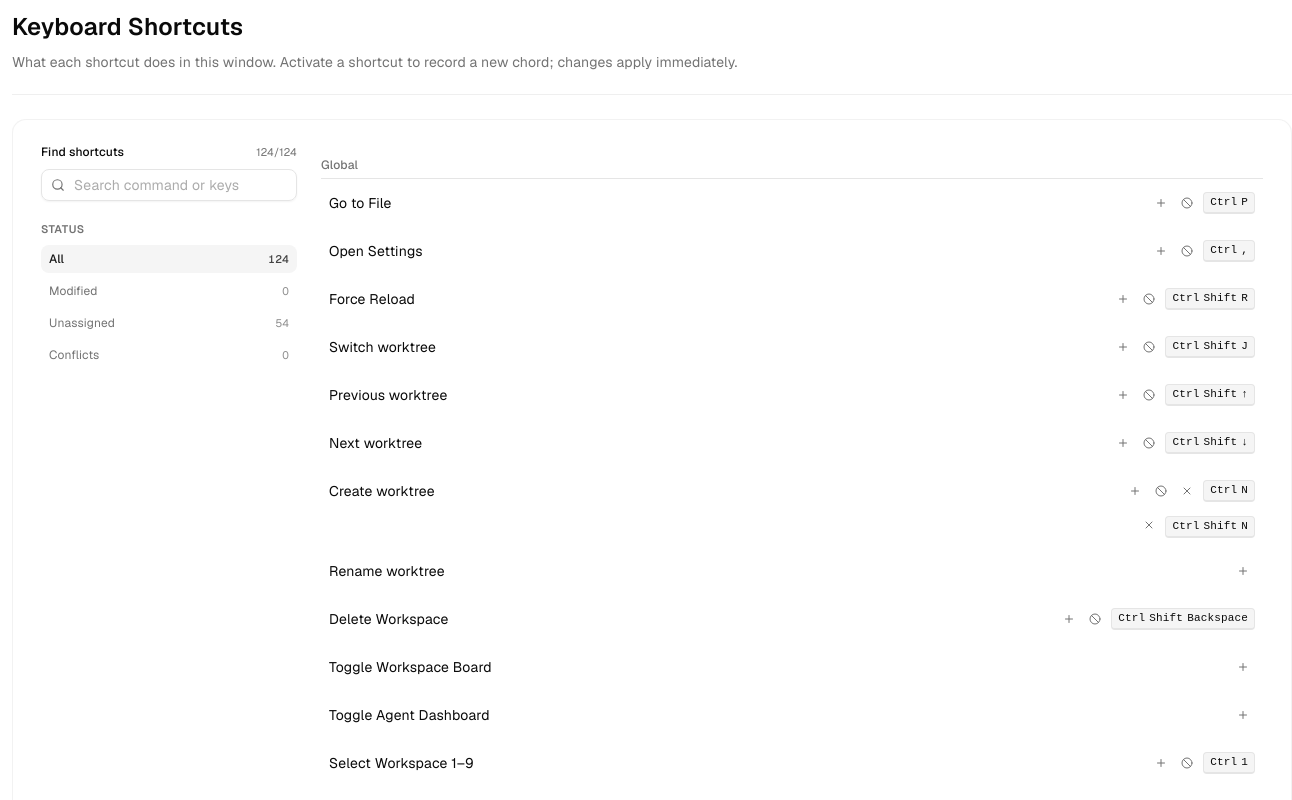
Test case: Shortcuts status filter rail (#245) › the rail search filters rows and reports the match count
Step 1. Type "Open Settings" into the field with placeholder "Search command or keys" → x=169, y=184, box [41, 168, 297, 200]
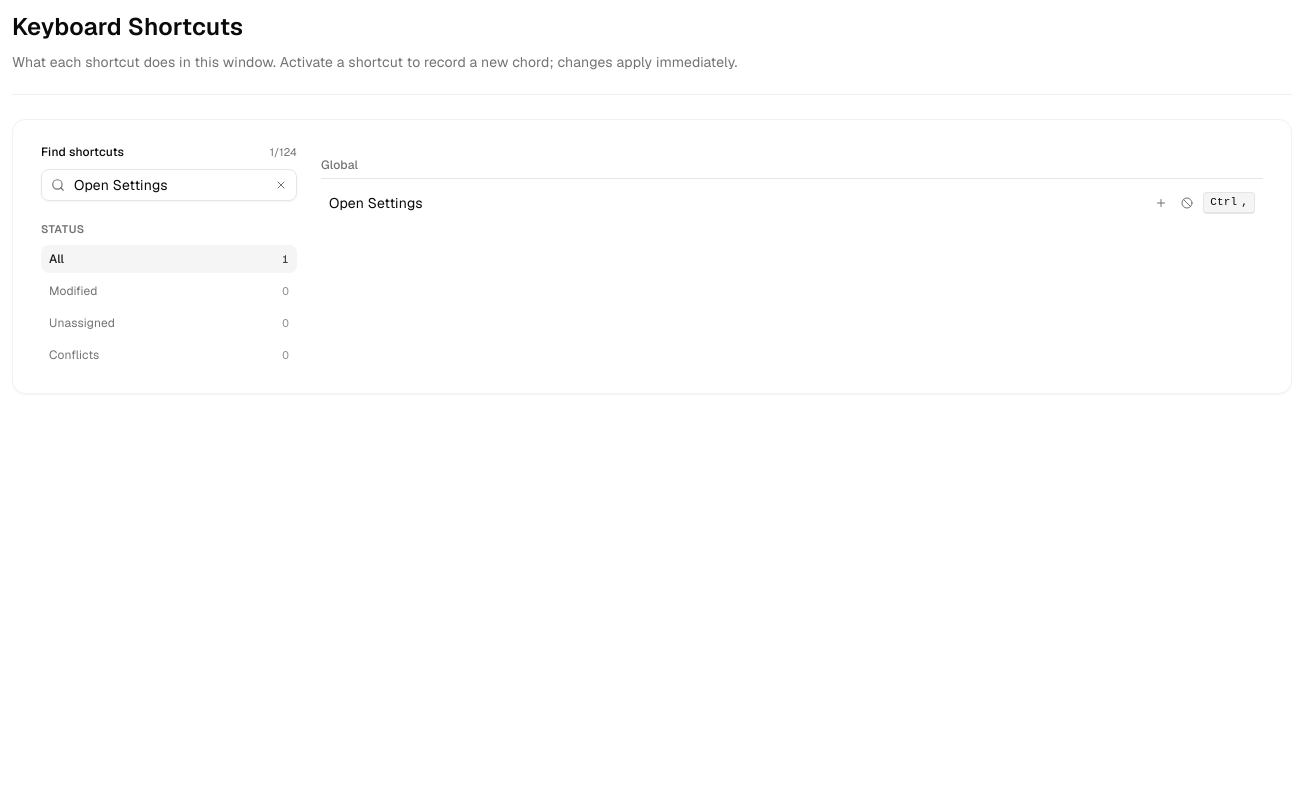
Check: the text "Open Settings" is shown, box [329, 193, 423, 213]
Check: the text "Go to File" is gone
Step 2. Replace the text in the field with placeholder "Search command or keys" with "zzz-no-match" → x=169, y=184, box [41, 168, 297, 200]
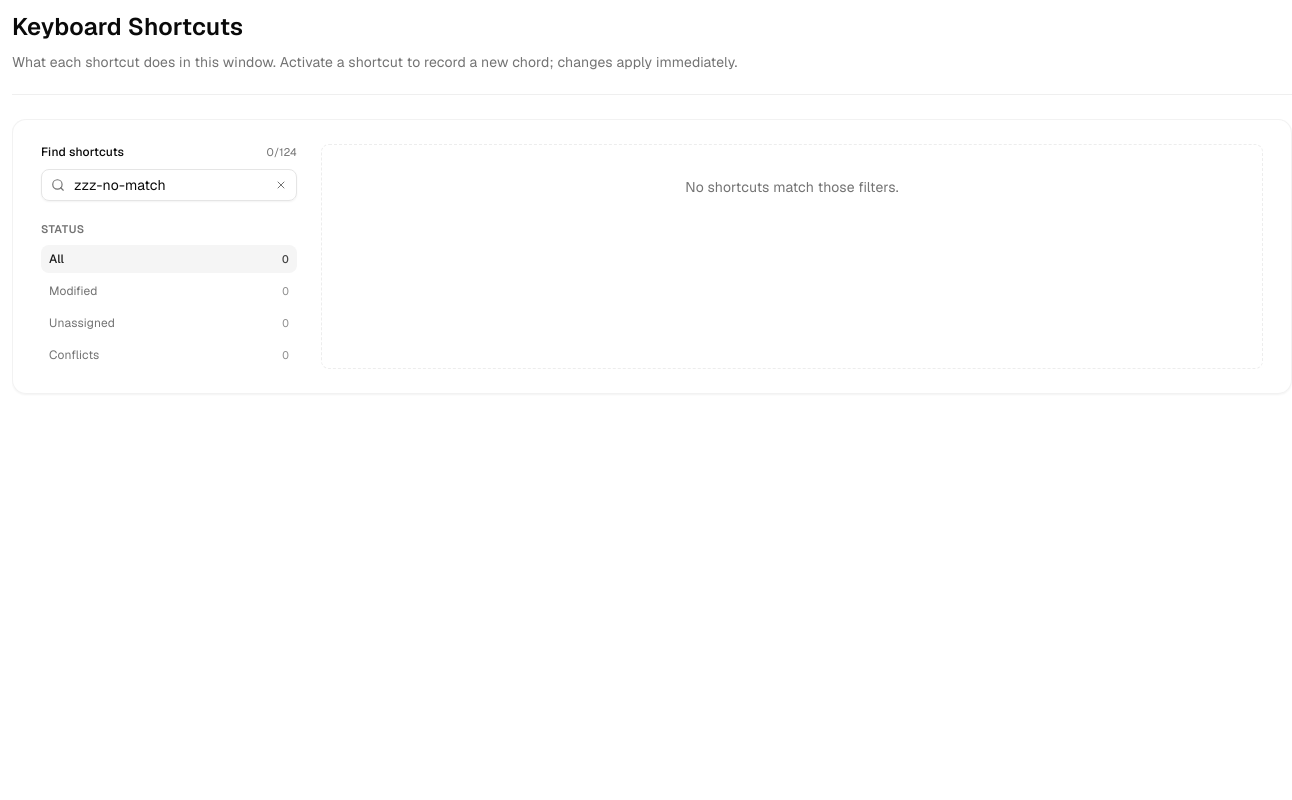
Check: the text "No shortcuts match those filters." is shown, box [321, 144, 1263, 369]
